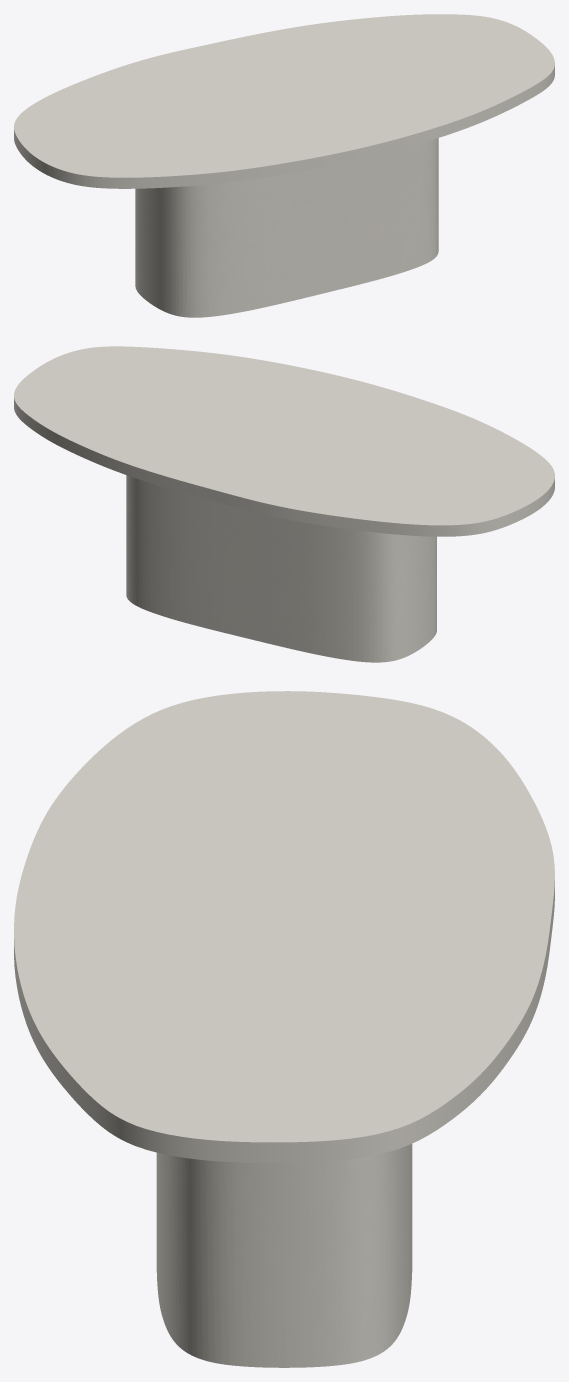
File: pale_danish_standard_fixed.glb
The picture shows the model from 3 angles, top to bottom: view 1: azimuth 30°, elevation 25°; view 2: azimuth 150°, elevation 25°; view 3: azimuth 270°, elevation 25°; orthographic projection. The views are drawn at different scales.
Parts seen in each view (by area): view 1: standard_danish, fixed; view 2: standard_danish, fixed; view 3: standard_danish, fixed.
Part boxes in pixels (x1,y1,x2,y2): standard_danish: [14, 14, 554, 188]; fixed: [135, 138, 438, 317]; standard_danish: [14, 346, 554, 536]; fixed: [126, 475, 436, 662]; standard_danish: [14, 691, 554, 1162]; fixed: [156, 1144, 412, 1367].
Bounding box in the file's own units: 7.5 × 2.5 × 3.8.
1 material, 1 textured.
